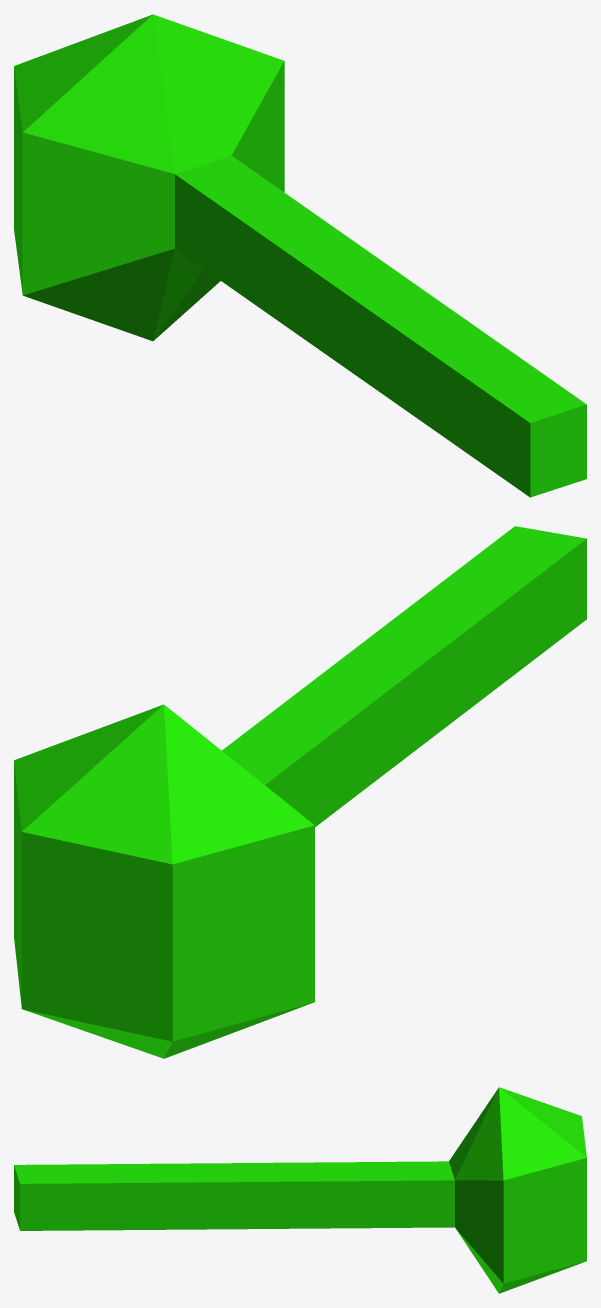
Rendered from ScaleHandler.glb.
3 renders of one model, top to bottom at view 1: azimuth 30°, elevation 25°; view 2: azimuth 150°, elevation 25°; view 3: azimuth 270°, elevation 25°, orthographic. The views are drawn at different scales.
Visible parts, largest first — view 1: UI Scale1; view 2: UI Scale1; view 3: UI Scale1.
Boxes of the visible parts, x1=… form: UI Scale1: x1=14, y1=14, x2=586, y2=497; UI Scale1: x1=14, y1=526, x2=586, y2=1058; UI Scale1: x1=14, y1=1087, x2=586, y2=1293.
Bounding box in the file's own units: 0.1756 × 0.2034 × 0.5111.
